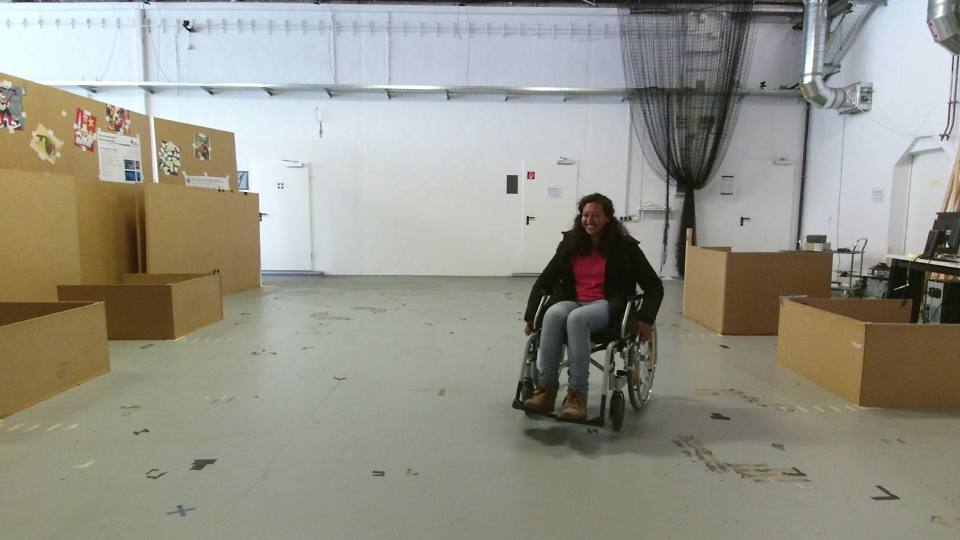wheelchair: (510, 191, 672, 437)
